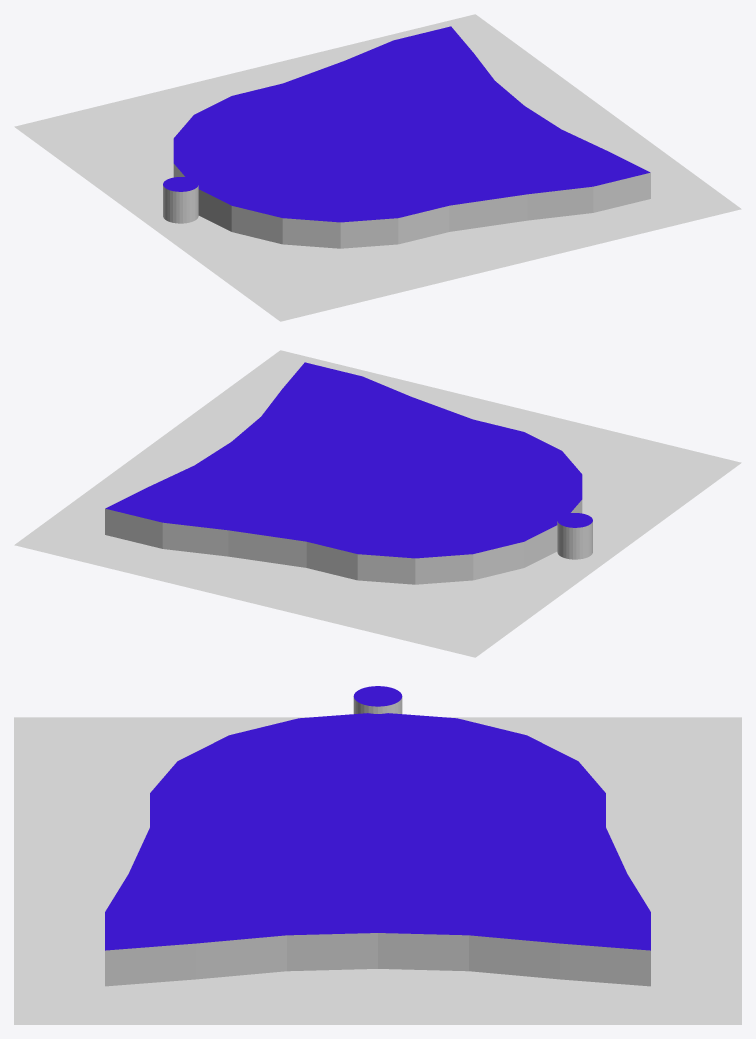
File: NorGate.fbx
The picture shows the model from 3 angles, top to bottom: view 1: azimuth 30°, elevation 25°; view 2: azimuth 150°, elevation 25°; view 3: azimuth 270°, elevation 25°; orthographic projection. The views are drawn at different scales.
Visible parts, largest first — view 1: NorGate; view 2: NorGate; view 3: NorGate.
Boxes of the visible parts, x1,y1,x2,y2 form: NorGate: (14, 14, 741, 321); NorGate: (14, 350, 741, 657); NorGate: (14, 686, 741, 1024).
Bounding box in the file's own units: 200 × 13.36 × 200.
